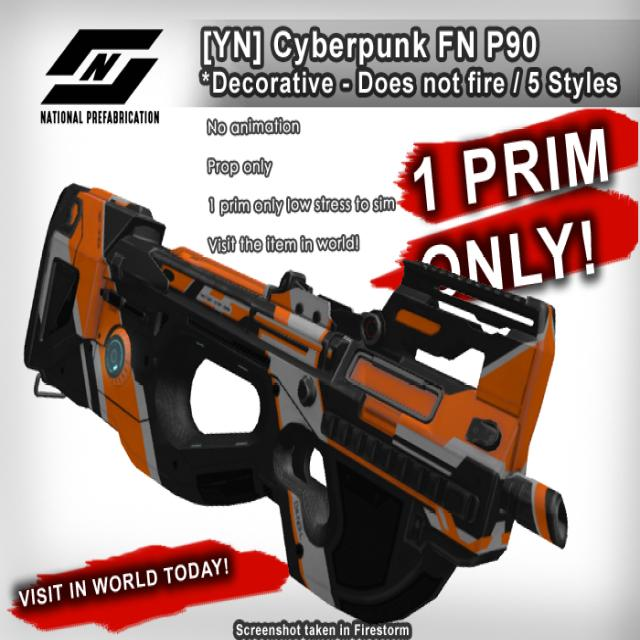Gun: (34, 160, 579, 607)
